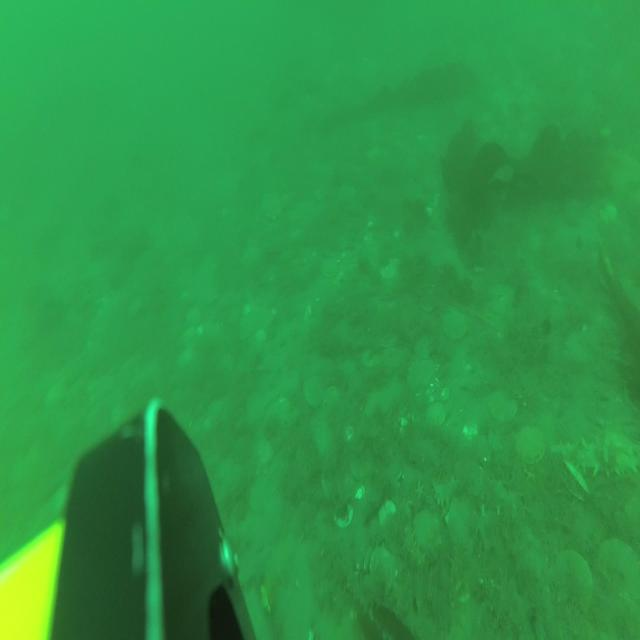holothurian: (555, 425, 640, 494), (470, 478, 519, 520), (432, 472, 463, 508)
scallop: (596, 534, 640, 595), (554, 550, 590, 614), (412, 508, 442, 558), (490, 384, 521, 426), (513, 425, 544, 467), (368, 543, 398, 586), (408, 353, 436, 393), (248, 475, 272, 517), (443, 306, 467, 341), (304, 375, 325, 407), (425, 404, 445, 427)
